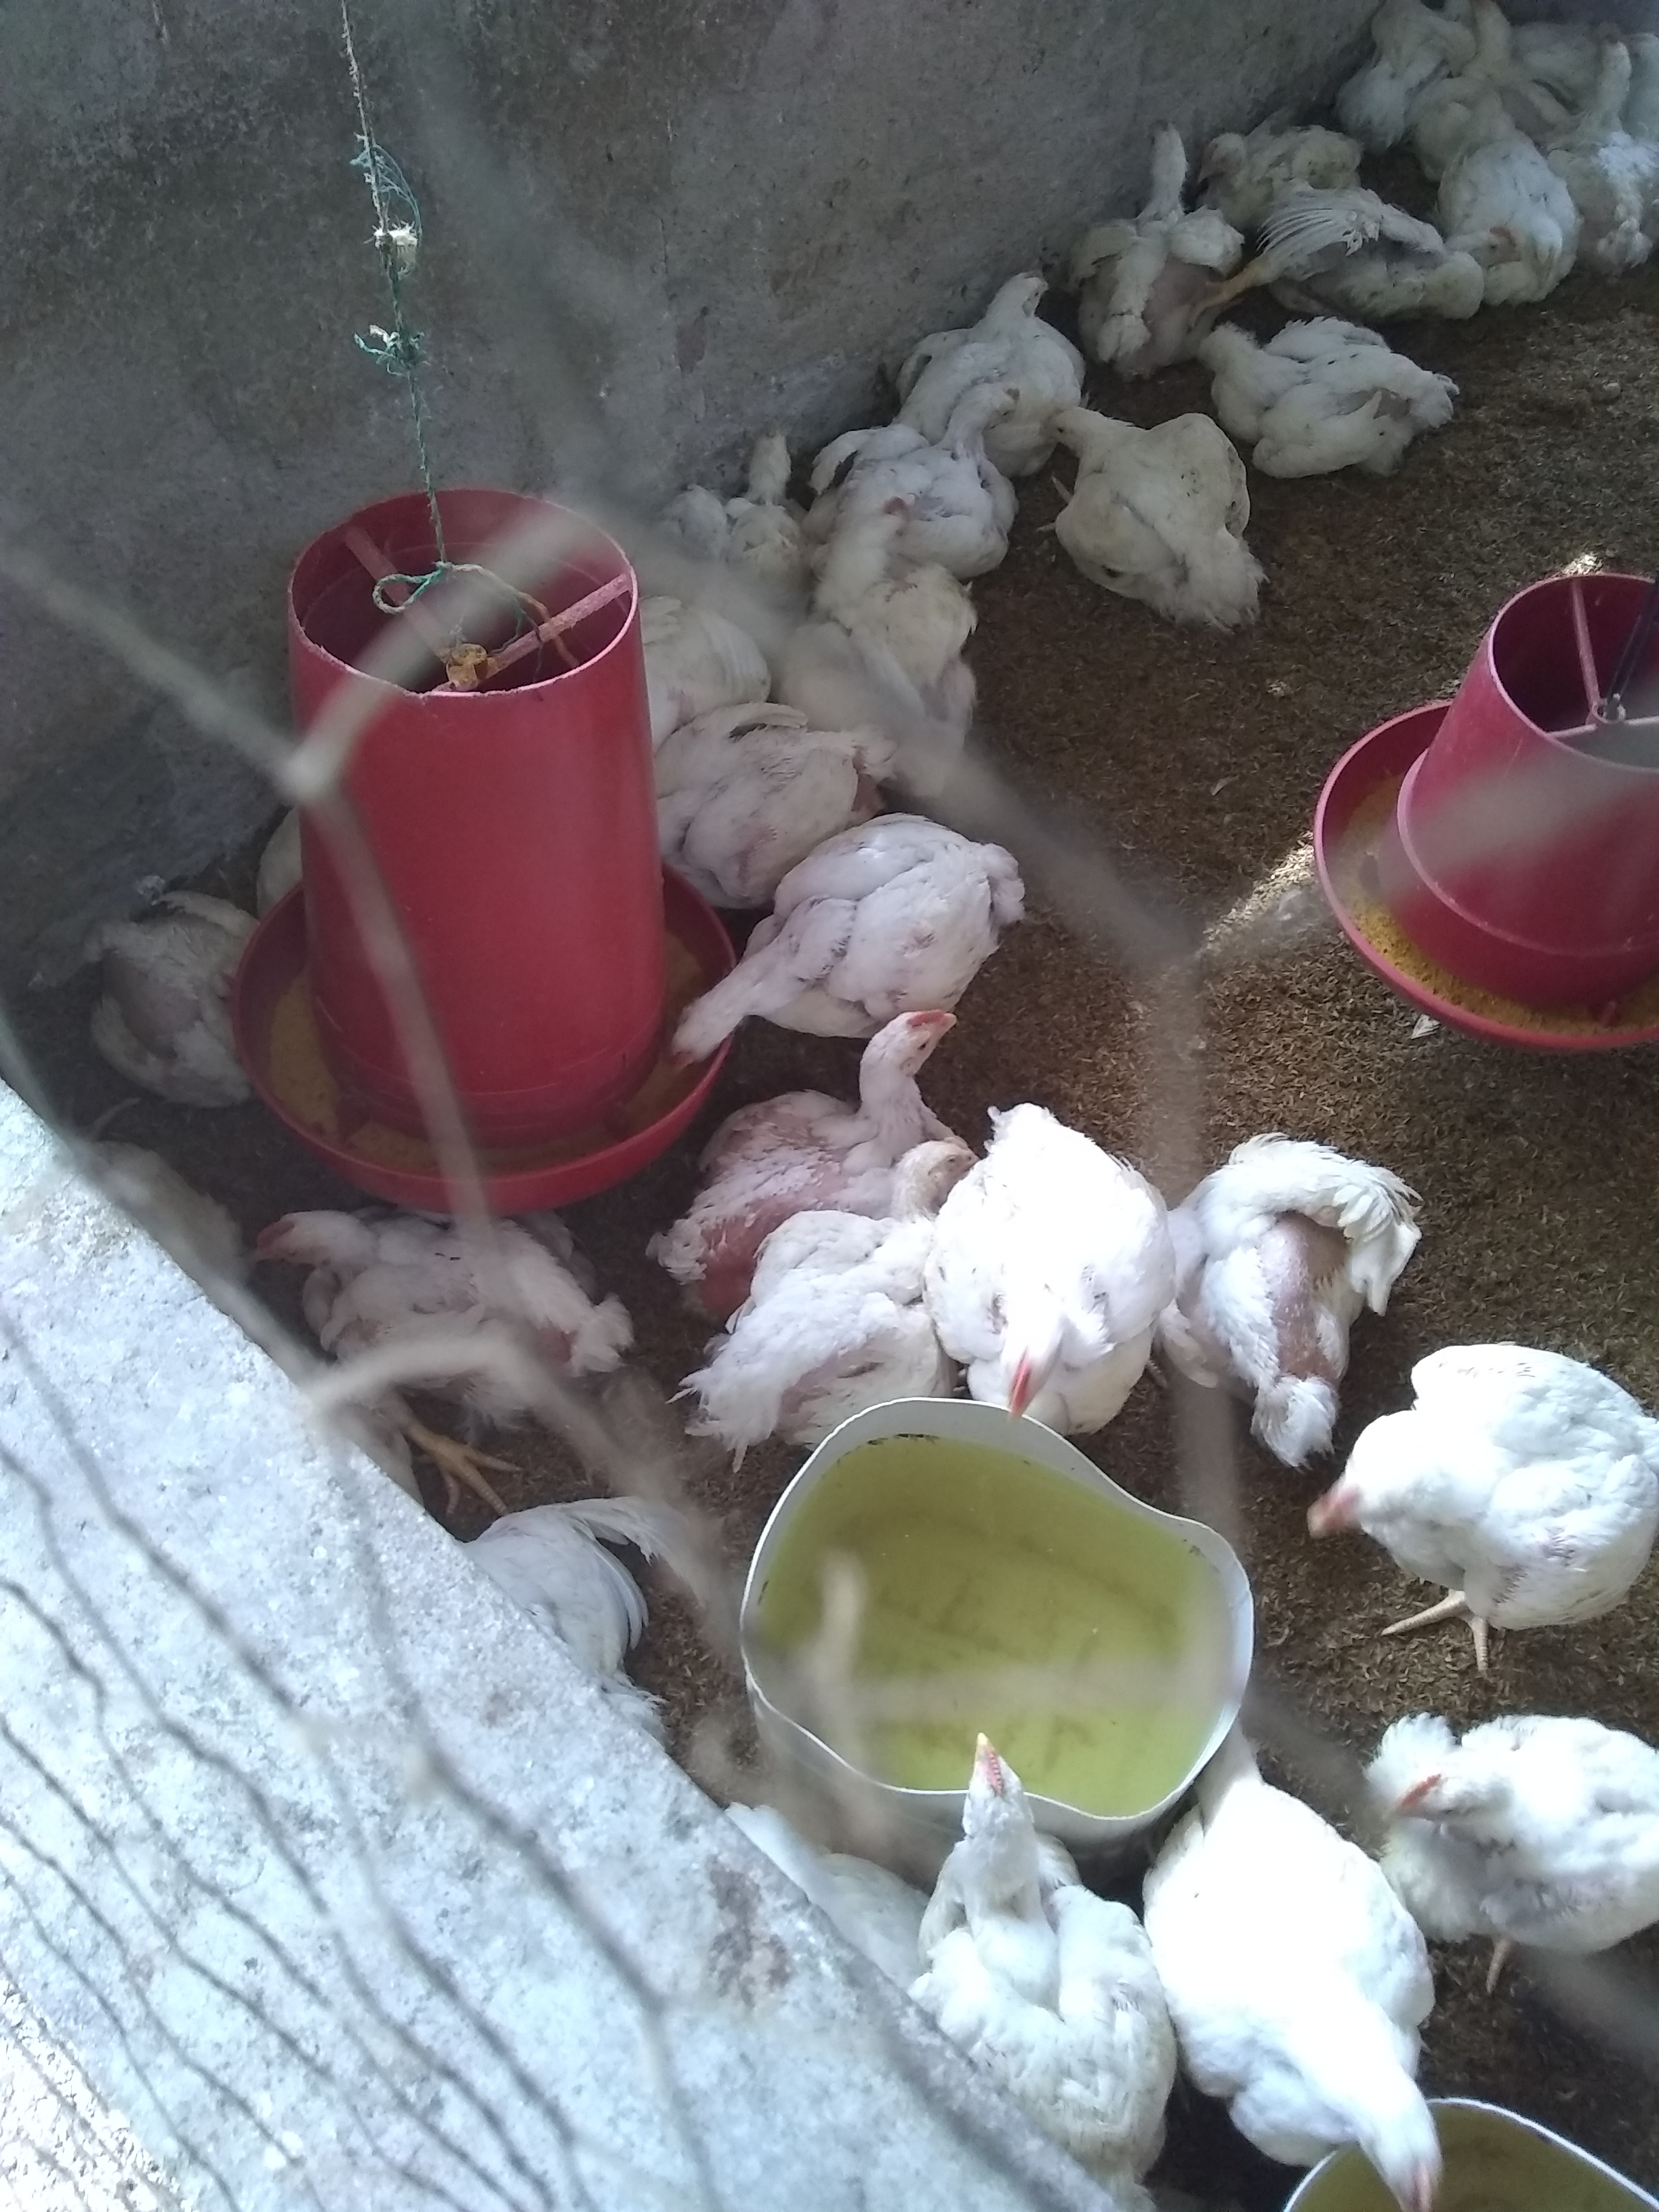Pollos: (929, 1728, 1150, 2135), (1304, 1372, 1645, 1632), (237, 1188, 627, 1406), (1171, 1933, 1464, 2209), (1220, 1125, 1415, 1454), (1387, 1714, 1659, 1923), (788, 491, 978, 782), (1042, 406, 1263, 618), (1075, 118, 1237, 355), (1199, 314, 1452, 453), (955, 1228, 1110, 1447), (664, 906, 828, 1087), (805, 993, 958, 1143), (838, 1129, 967, 1305), (870, 364, 1021, 491), (932, 260, 1079, 385), (1574, 24, 1650, 263), (1206, 106, 1370, 209), (1328, 218, 1514, 307), (1516, 183, 1584, 287)
